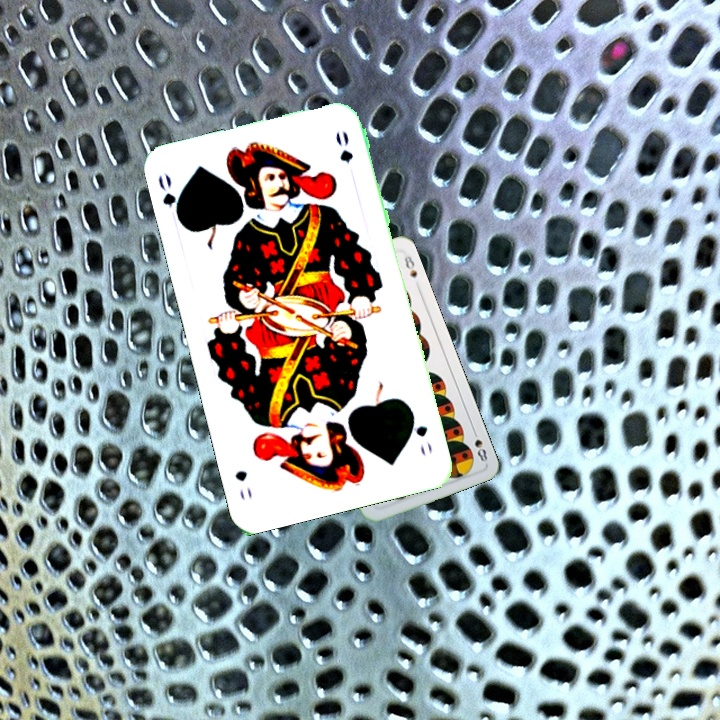GO: (154, 169, 184, 226), (407, 406, 435, 459)
S8: (468, 425, 490, 464)
